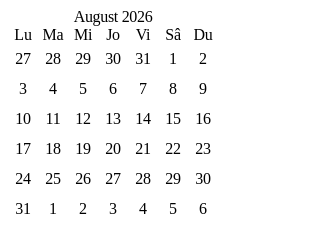
Test: Calendar › should move to the next month when a trailing day is picked
Click the 2nd button "2".
click(83, 209)  # box [68,194,98,224]
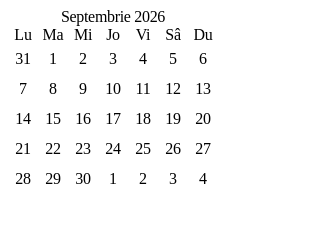
Now the text with class "lz-calendar__title" reads "Septembrie 2026", box [61,8,165,25]
